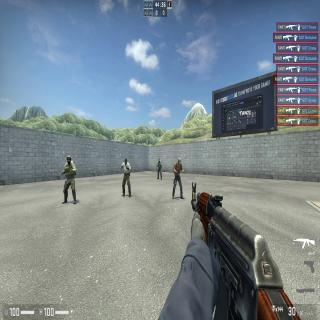CT-Body: (63, 156, 75, 203), (158, 159, 161, 179)
CT-Head: (66, 154, 72, 164), (159, 159, 160, 162)
T-Body: (173, 157, 183, 199), (122, 158, 130, 196)
T-Head: (124, 158, 128, 164), (178, 158, 181, 165)
